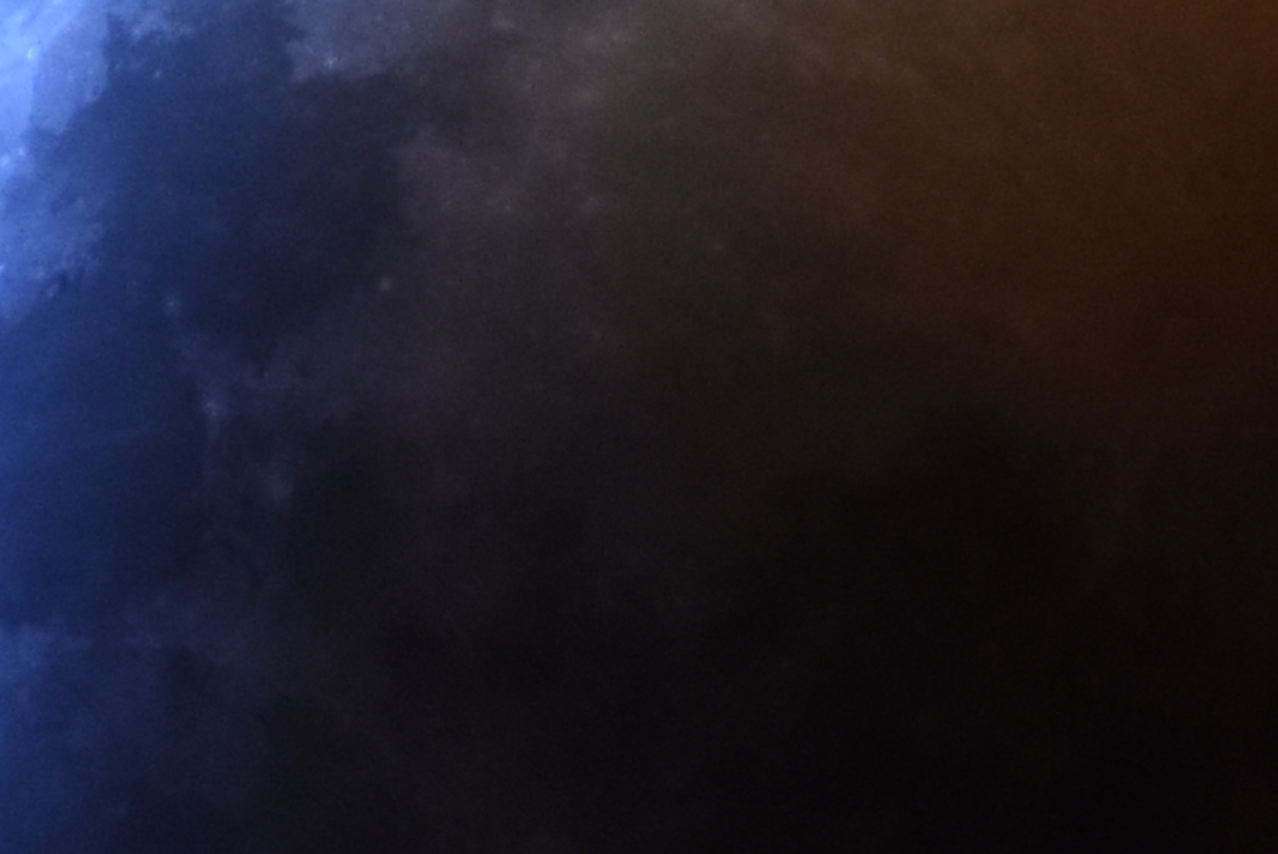crater: (957, 65, 1273, 492), (240, 446, 325, 524), (9, 9, 75, 97), (353, 247, 410, 308), (181, 380, 238, 434), (688, 210, 742, 266), (143, 48, 187, 112), (150, 282, 203, 330), (312, 38, 352, 79)
